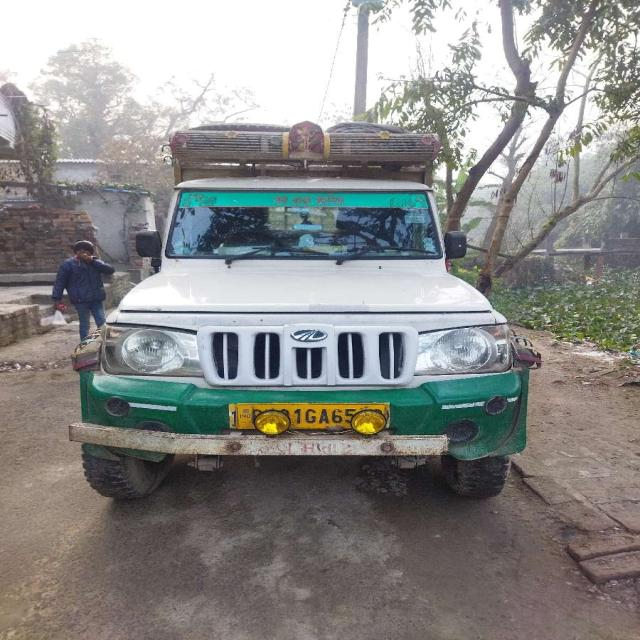light_vehicle: (74, 176, 528, 477)
